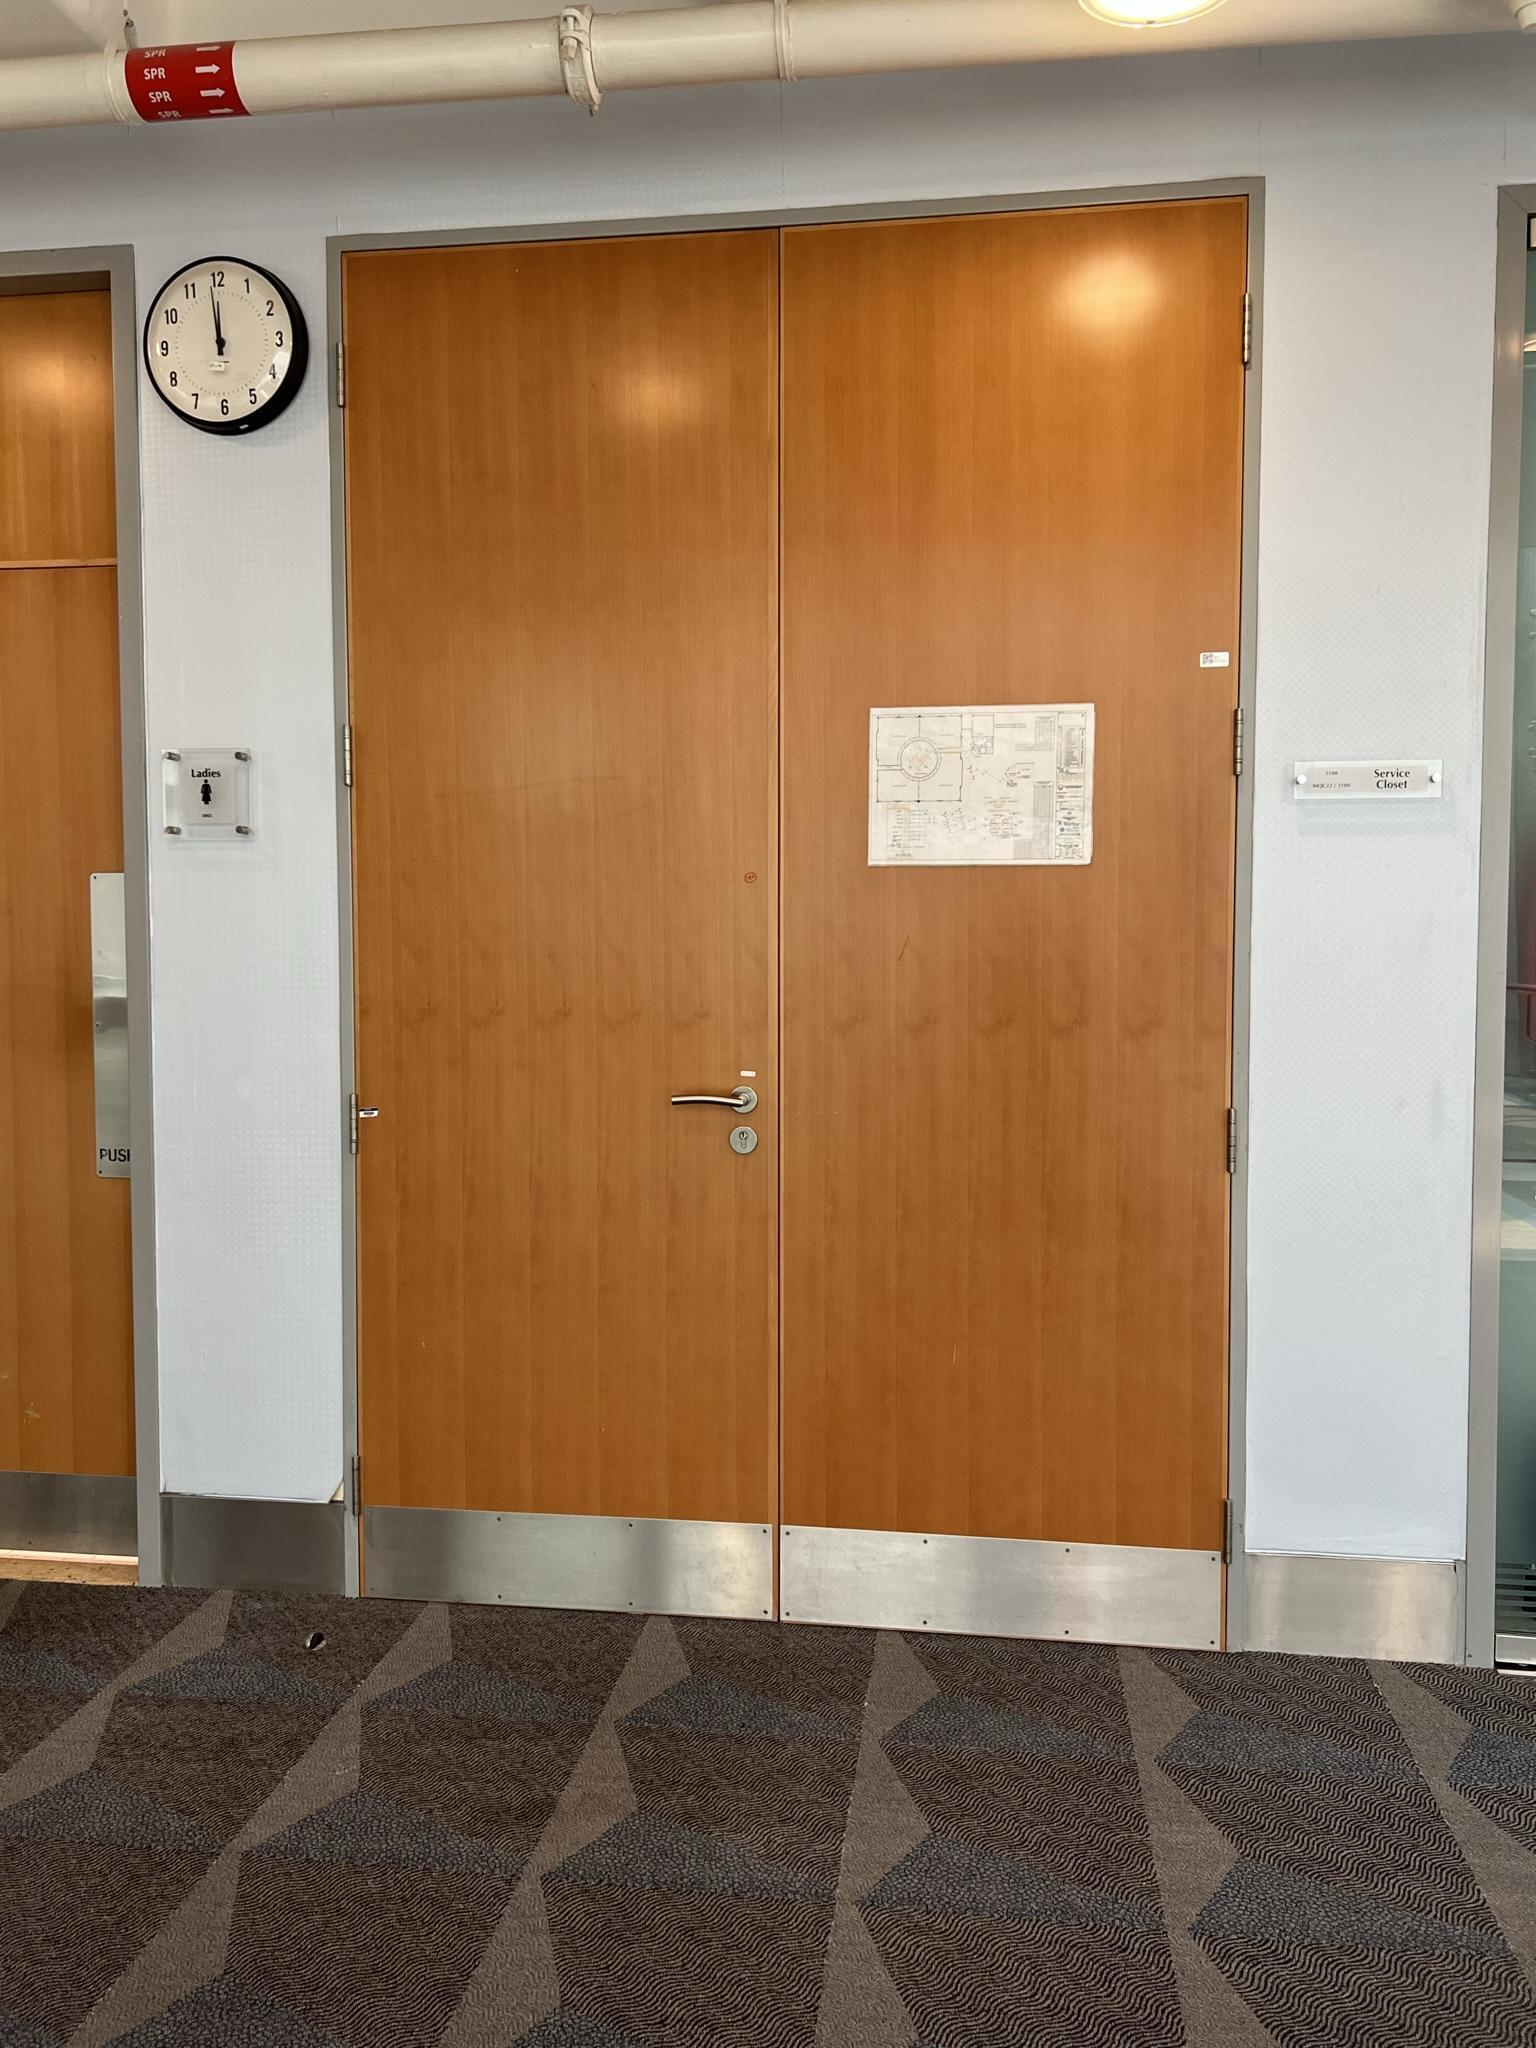door: (783, 206, 1233, 1655), (316, 221, 781, 1617)
handle: (647, 1071, 778, 1163)
